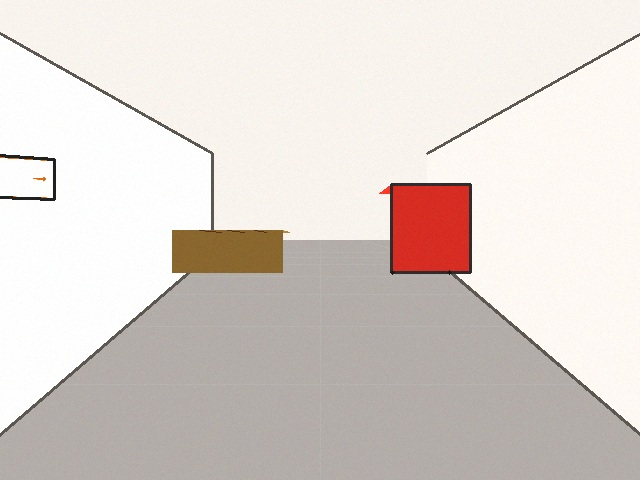cart: (379, 184, 470, 272)
directional_sign: (0, 153, 54, 199)
pallet: (172, 230, 289, 272)
